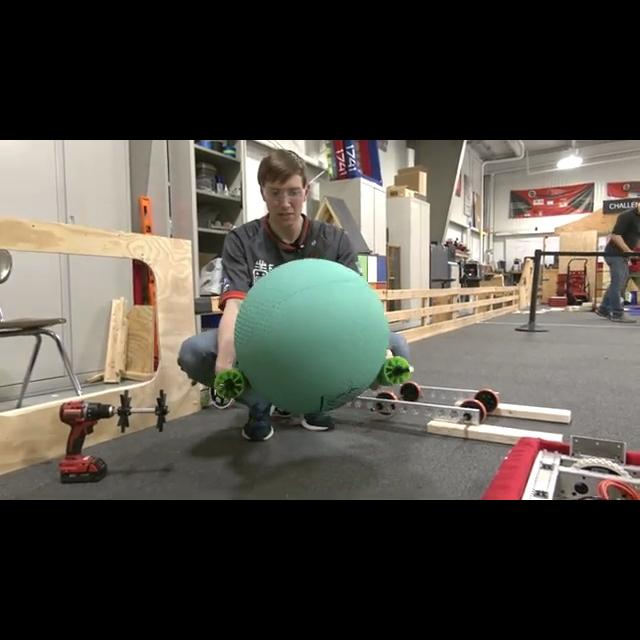ALGAE: (232, 256, 390, 416)
